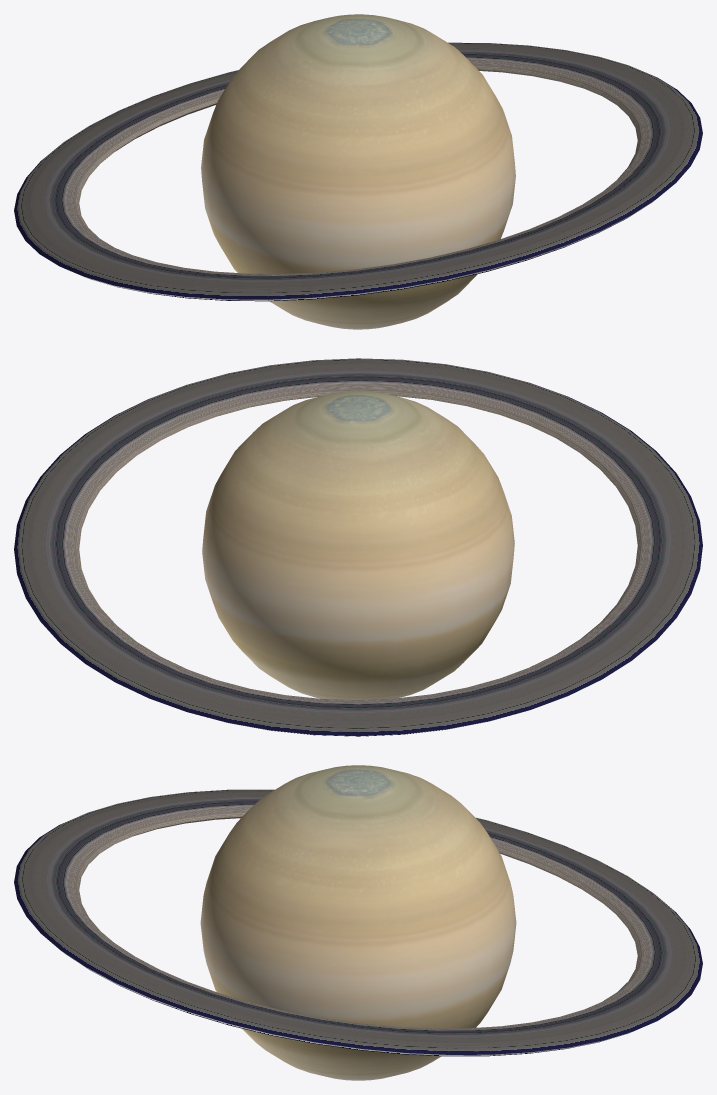
Rendered from saturn.fbx.
3 views of the same model, one above another, from view 1: azimuth 30°, elevation 25°; view 2: azimuth 150°, elevation 25°; view 3: azimuth 270°, elevation 25° (orthographic).
Parts seen in each view (by area): view 1: Sphere, Torus; view 2: Sphere, Torus; view 3: Sphere, Torus.
Part boxes in pixels (x1,y1,x2,y2): Sphere: [201, 14, 515, 329]; Torus: [14, 42, 702, 301]; Sphere: [202, 391, 514, 699]; Torus: [14, 358, 702, 736]; Sphere: [200, 765, 516, 1080]; Torus: [14, 789, 702, 1056].
Bounding box in the file's own units: 4147 × 1890 × 4122.
Materials: 2 (2 with a texture image).
